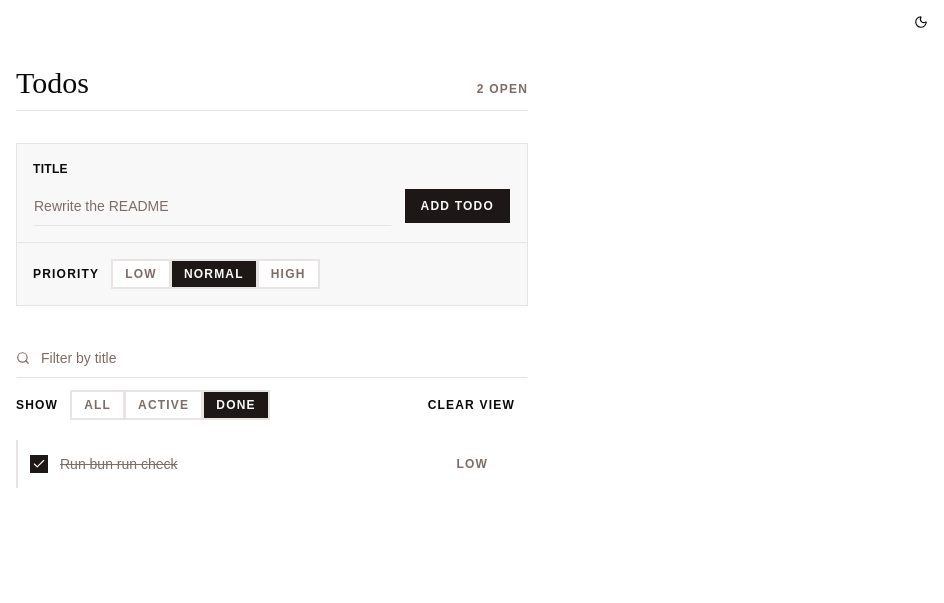
/todos › leaves default values out of the URL
This screenshot has width=944, height=603.
Expected: the list named "Todos" is shown, [16, 440, 528, 488]
Click the button "Clear view" at (471,404), box [415, 390, 528, 418]
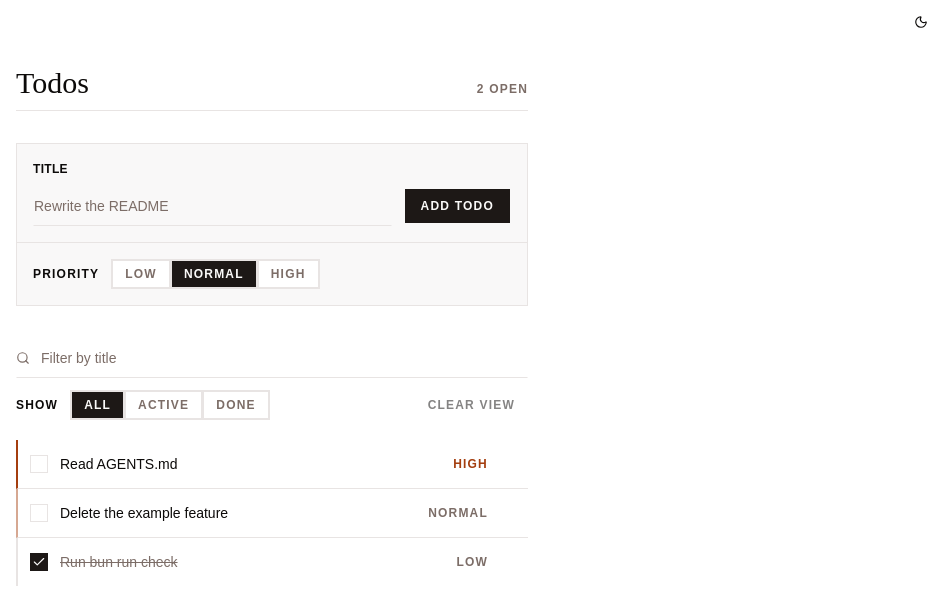
Expected: the number of list items is 3, [16, 440, 528, 488]; [16, 488, 528, 538]; [16, 538, 528, 586]
